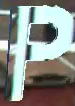Parking: (6, 2, 73, 105)
